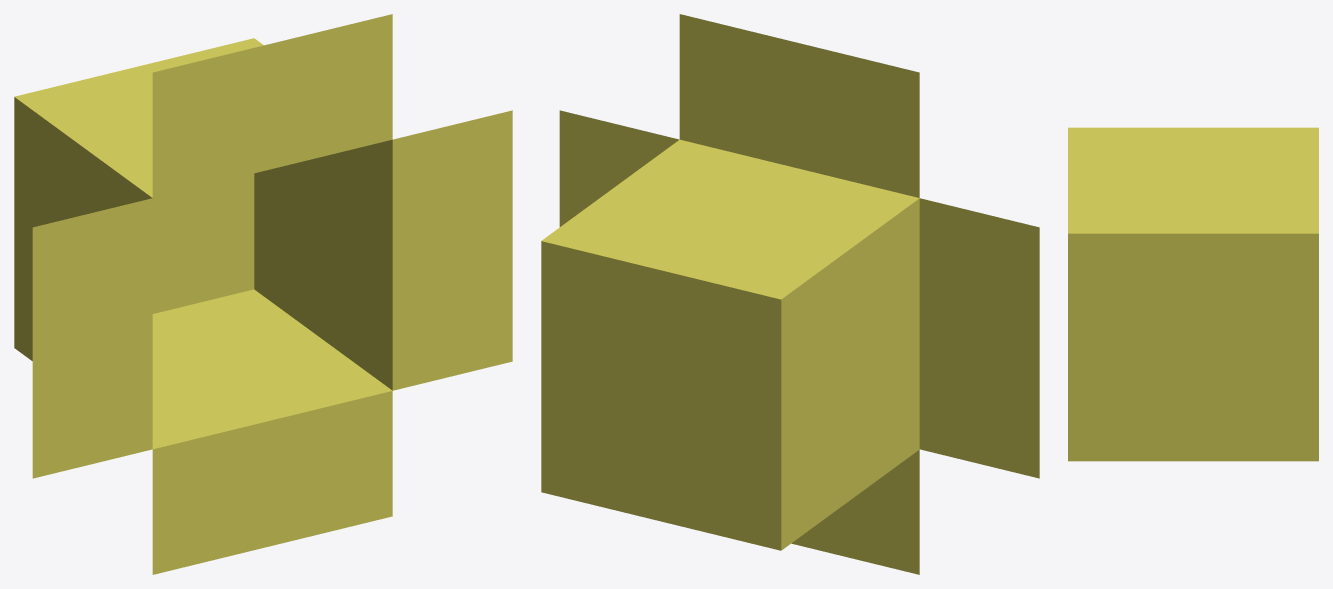
File: box_1_open.dae
3 views of the same model, side by side, from view 1: azimuth 30°, elevation 25°; view 2: azimuth 150°, elevation 25°; view 3: azimuth 270°, elevation 25° (orthographic). The views are drawn at different scales.
Parts seen in each view (by area): view 1: coords_ME_ID3_MA_material_27; view 2: coords_ME_ID3_MA_material_27; view 3: coords_ME_ID3_MA_material_27.
Boxes of the visible parts, left/top/right/bottom form: coords_ME_ID3_MA_material_27: left=14, top=14, right=512, bottom=574; coords_ME_ID3_MA_material_27: left=541, top=14, right=1039, bottom=574; coords_ME_ID3_MA_material_27: left=1068, top=127, right=1318, bottom=461.
Size of the model in its own units: 9.45 by 9.45 by 4.72.
